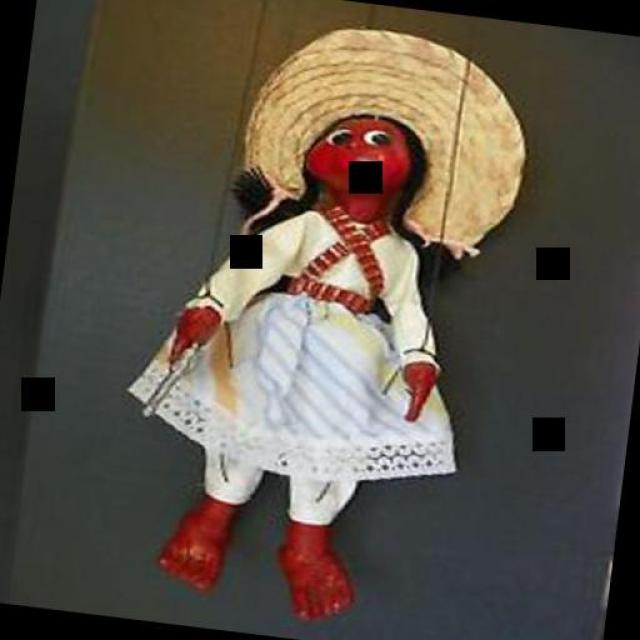gun: (134, 322, 210, 423)
